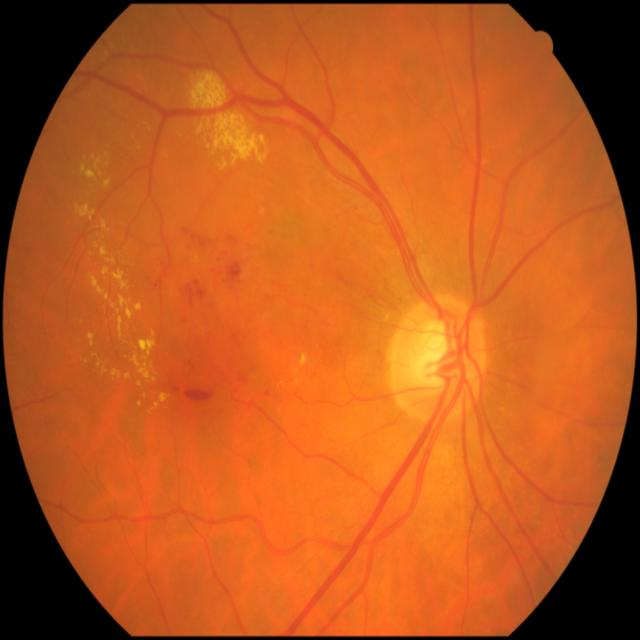OC: (415, 320, 460, 388)
OD: (386, 296, 488, 419)
